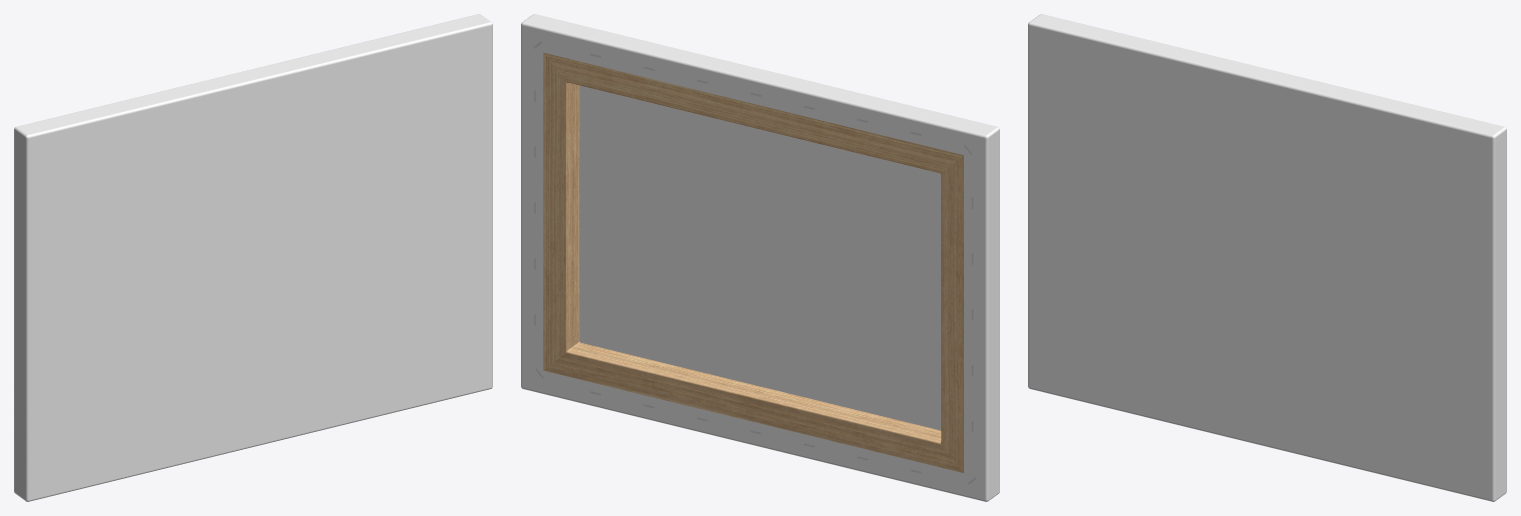
The model's file is canvas-landscape-empty.glb.
3 renders of one model, left to right at view 1: azimuth 30°, elevation 25°; view 2: azimuth 150°, elevation 25°; view 3: azimuth 330°, elevation 25°, orthographic.
Visible parts, largest first — view 1: Canvas_Motif; view 2: Canvas_White_Backside, Canvas_Frame, Canvas_White, Canvas_Motif, Canvas_Staples; view 3: Canvas_Motif.
Part boxes in pixels (<box>): Canvas_Motif: <box>14,14,492,501</box>; Canvas_White_Backside: <box>579,85,941,430</box>; Canvas_Frame: <box>543,52,963,472</box>; Canvas_White: <box>526,30,981,495</box>; Canvas_Motif: <box>521,14,999,501</box>; Canvas_Staples: <box>533,41,976,484</box>; Canvas_Motif: <box>1028,14,1506,501</box>.
Size of the model in its own units: 0.4 by 0.3 by 0.0202.
Materials: 4 (2 with a texture image).
